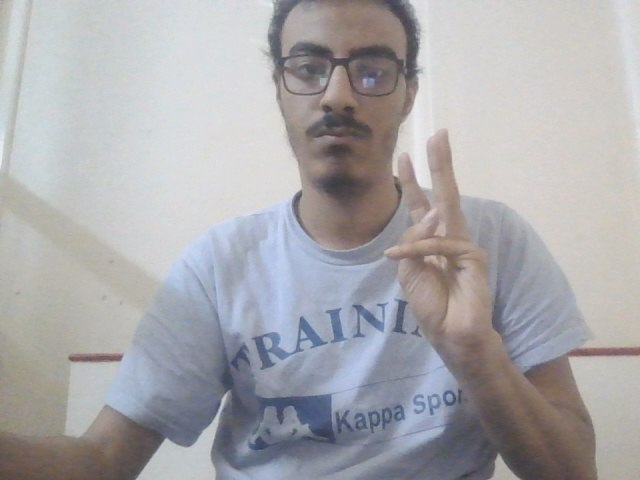Water: (380, 124, 507, 354)
